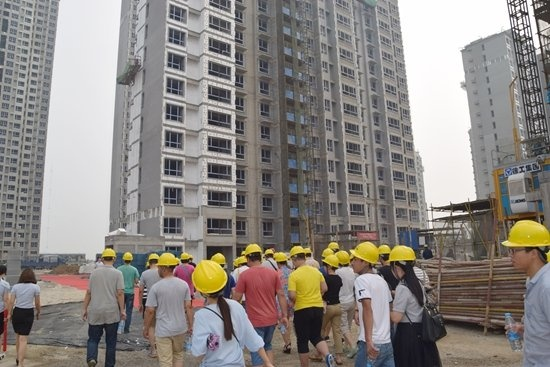none: (17, 267, 36, 284)
yellow: (501, 218, 550, 270), (190, 260, 229, 301), (349, 241, 378, 274), (389, 245, 415, 277), (156, 251, 177, 277), (243, 243, 262, 265), (288, 244, 306, 266), (321, 254, 339, 273), (335, 249, 350, 270), (376, 243, 390, 263), (209, 252, 226, 268), (100, 247, 115, 265), (273, 252, 288, 267), (146, 252, 159, 268), (121, 251, 134, 265), (179, 251, 190, 264), (236, 255, 247, 268), (263, 248, 273, 259), (303, 247, 312, 258)
